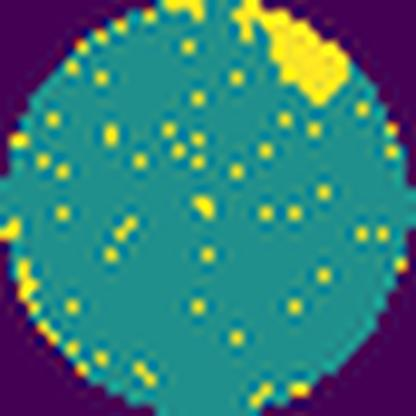Edge-Loc: (235, 0, 360, 109), (151, 0, 214, 21)
